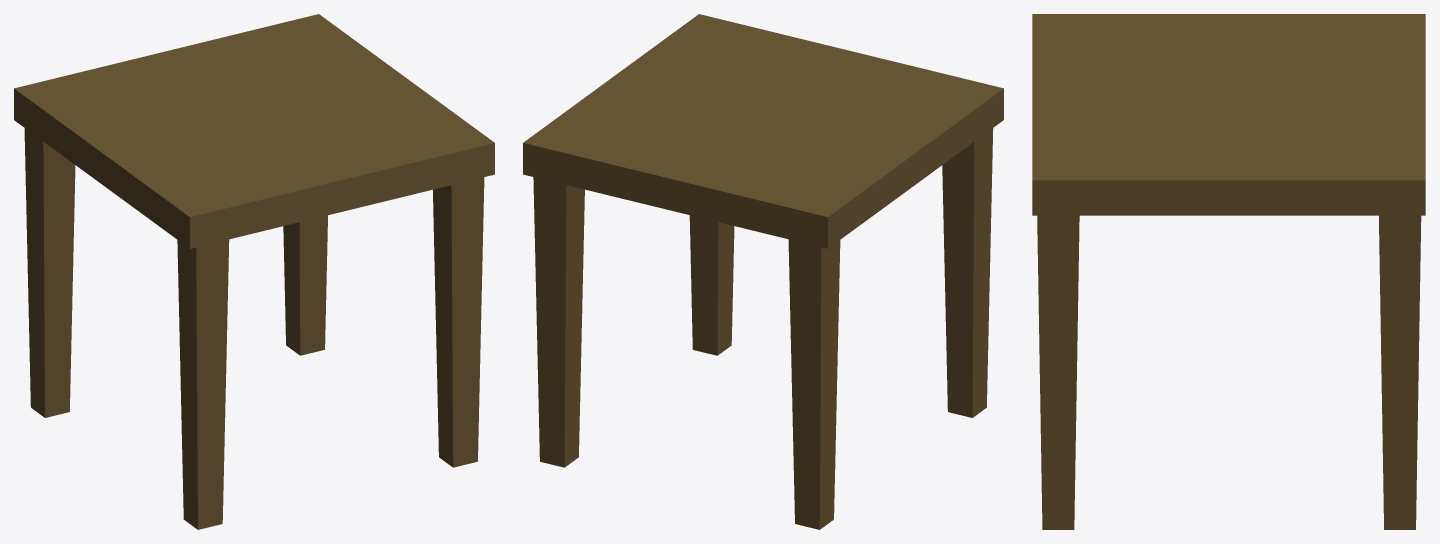
The model's file is square_table.glb.
3 renders of one model, left to right at view 1: azimuth 30°, elevation 25°; view 2: azimuth 150°, elevation 25°; view 3: azimuth 270°, elevation 25°, orthographic. The views are drawn at different scales.
Parts seen in each view (by area): view 1: square_table; view 2: square_table; view 3: square_table.
Part boxes in pixels (x1,y1,x2,y2): square_table: (14,14,494,529); square_table: (523,14,1003,529); square_table: (1032,14,1425,529).
Bounding box in the file's own units: 1 × 1 × 1.
